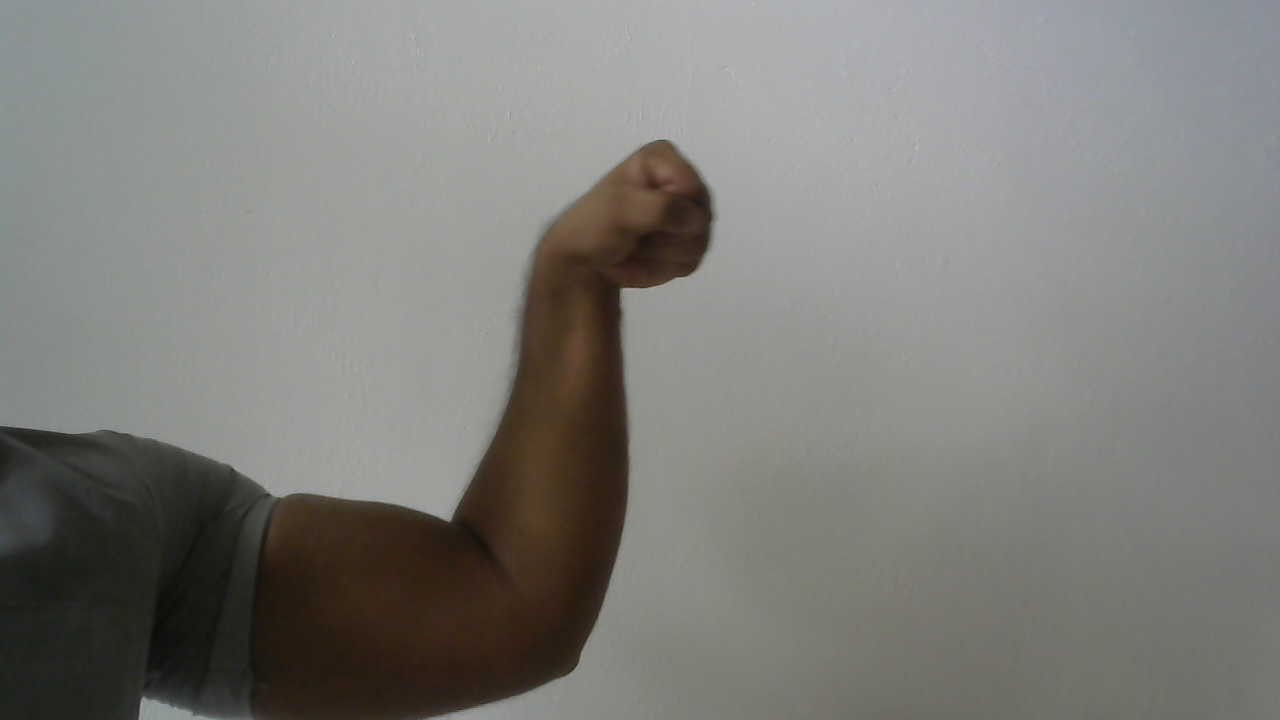yes: (509, 128, 736, 317)
